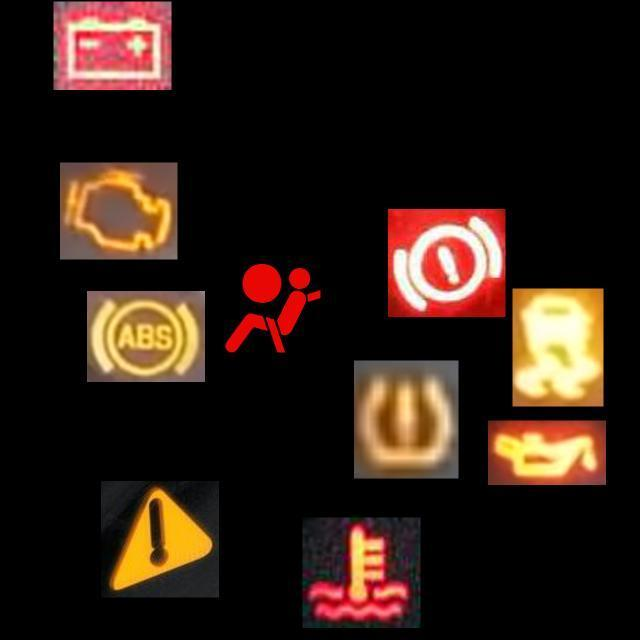Central Warning lamp: (101, 480, 219, 598)
Engine cooling system: (302, 518, 420, 628)
